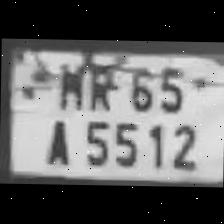1: (140, 116, 168, 168)
2: (165, 116, 198, 169)
5: (151, 62, 186, 113), (107, 116, 140, 166), (78, 113, 109, 166)
6: (122, 60, 155, 110)
A: (38, 113, 73, 166)
H: (53, 58, 84, 110)
R: (82, 56, 119, 110)
